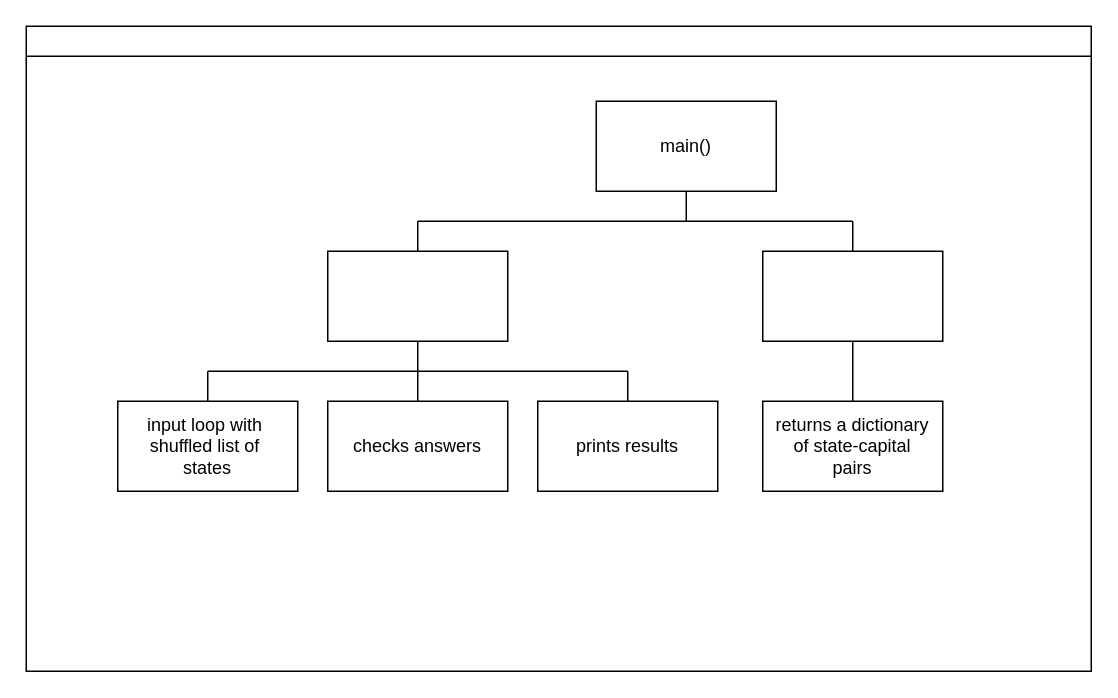
The diagram is 1118 pixels wide and 698 high, and some of its shapes have lost their labels. The centre of each missing label's shape, as x and y in pixels:
create_states_and_ capitals(): the point at 417,295
quiz(states_and_ capitals): the point at 852,295
